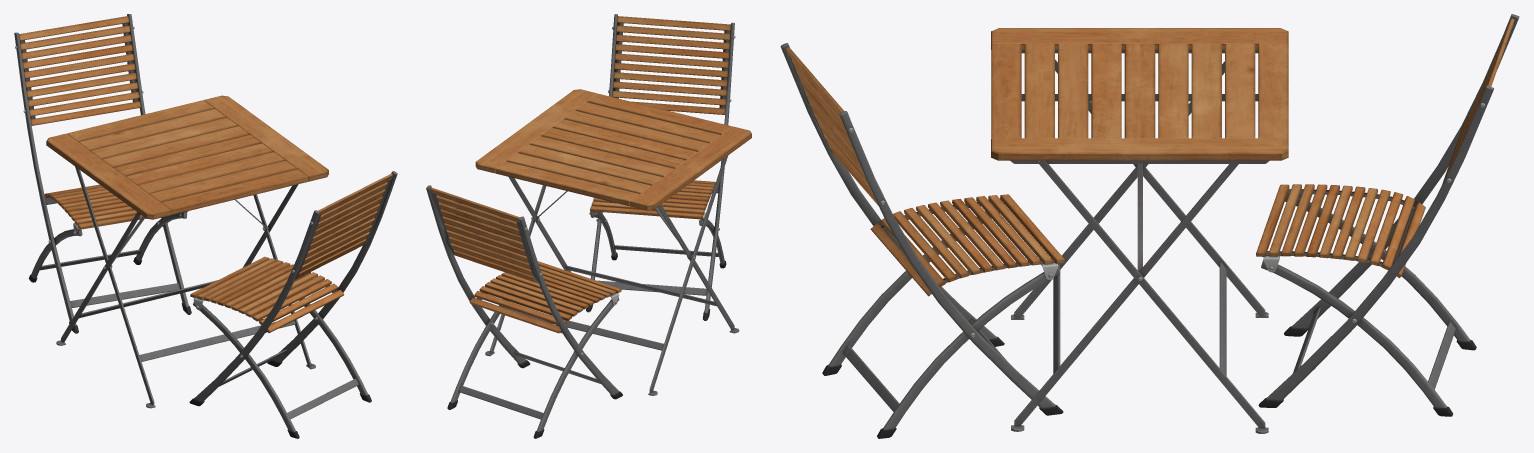
Rendered from outdoor_table_chair_set_01.glb.
3 views of the same model, side by side, from view 1: azimuth 30°, elevation 25°; view 2: azimuth 150°, elevation 25°; view 3: azimuth 270°, elevation 25° (orthographic). The views are drawn at different scales.
Visible parts, largest first — view 1: outdoor_table_chair_set_01_chair_01, outdoor_table_chair_set_01_table; view 2: outdoor_table_chair_set_01_chair_01, outdoor_table_chair_set_01_table; view 3: outdoor_table_chair_set_01_table, outdoor_table_chair_set_01_chair_01.
Boxes of the visible parts, x1,y1,x2,y2 form: outdoor_table_chair_set_01_chair_01: (14, 14, 397, 438); outdoor_table_chair_set_01_table: (46, 95, 328, 408); outdoor_table_chair_set_01_chair_01: (426, 14, 735, 438); outdoor_table_chair_set_01_table: (475, 89, 751, 395); outdoor_table_chair_set_01_table: (991, 28, 1288, 433); outdoor_table_chair_set_01_chair_01: (780, 14, 1519, 438).
Size of the model in its own units: 0.7417 by 0.8586 by 1.72.
Materials: 2 (2 with a texture image).
